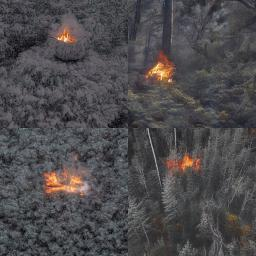Small fire: (38, 161, 99, 202), (161, 147, 205, 181), (145, 47, 182, 87), (50, 17, 85, 52)
